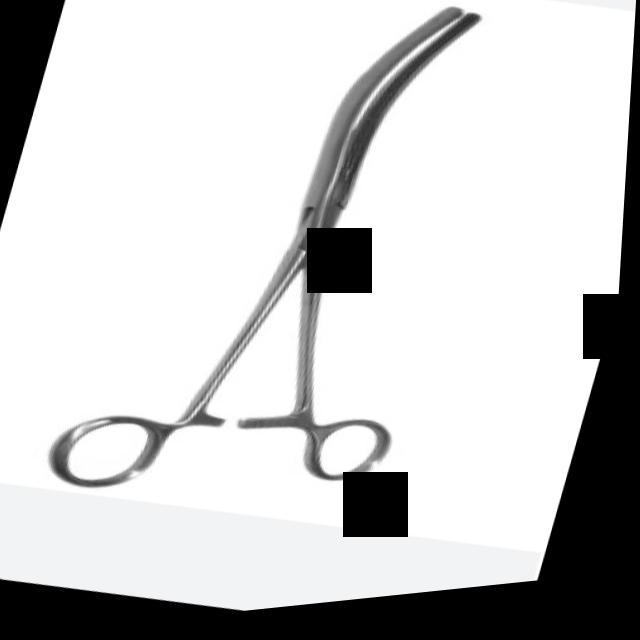Doyel Instestinal Forceps: (39, 0, 523, 564)
